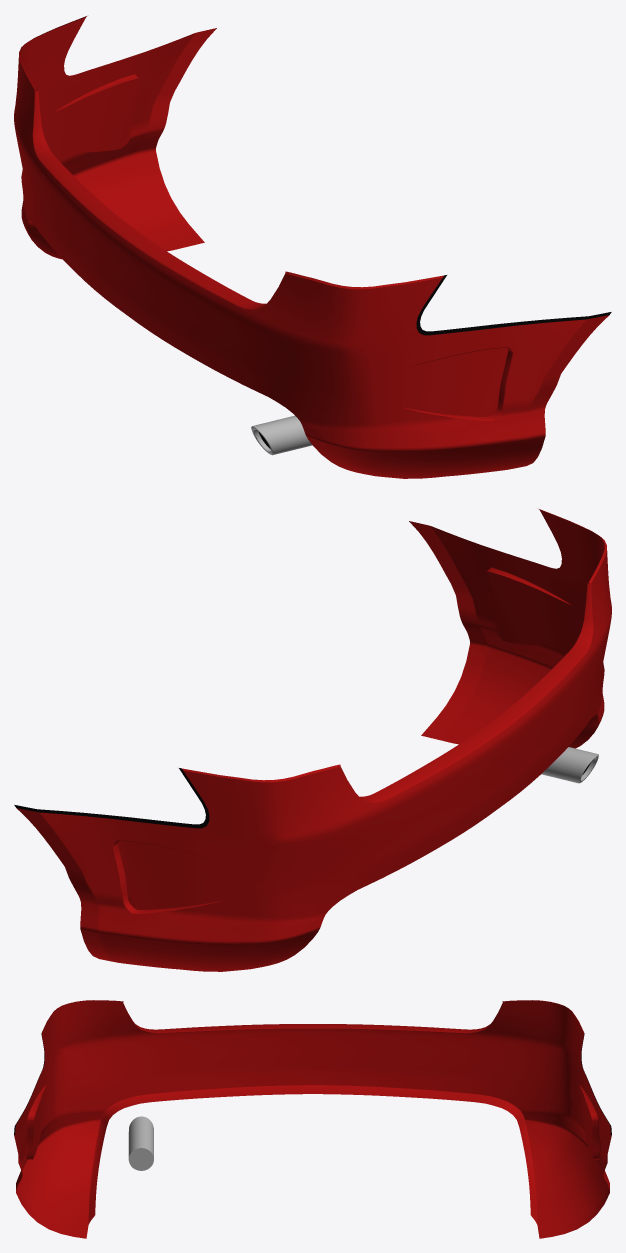
3 renders of one model, top to bottom at view 1: azimuth 30°, elevation 25°; view 2: azimuth 150°, elevation 25°; view 3: azimuth 270°, elevation 25°, orthographic. The views are drawn at different scales.
Visible parts, largest first — view 1: Y175_18_561G_C_1_DaS_Y175_18_561G_C, Y175_18_561G_C_1_DaS_Y175_18_561G_C_E, Y175_18_561G_C_Y175_18_561G_C_2_DaS, Y175_18_561G_C_Y175_18_561G_C_3_D; view 2: Y175_18_561G_C_1_DaS_Y175_18_561G_C, Y175_18_561G_C_1_DaS_Y175_18_561G_C_E, Y175_18_561G_C_Y175_18_561G_C_2_DaS, Y175_18_561G_C_Y175_18_561G_C_3_D; view 3: Y175_18_561G_C_1_DaS_Y175_18_561G_C, Y175_18_561G_C_1_DaS_Y175_18_561G_C_E, Y175_18_561G_C_Y175_18_561G_C_2_DaS.
Boxes of the visible parts, x1,y1,x2,y2 form: Y175_18_561G_C_1_DaS_Y175_18_561G_C: [14, 17, 609, 478]; Y175_18_561G_C_1_DaS_Y175_18_561G_C_E: [19, 16, 513, 420]; Y175_18_561G_C_Y175_18_561G_C_2_DaS: [251, 415, 312, 455]; Y175_18_561G_C_Y175_18_561G_C_3_D: [416, 275, 611, 335]; Y175_18_561G_C_1_DaS_Y175_18_561G_C: [16, 510, 611, 971]; Y175_18_561G_C_1_DaS_Y175_18_561G_C_E: [112, 509, 606, 913]; Y175_18_561G_C_Y175_18_561G_C_2_DaS: [541, 747, 598, 783]; Y175_18_561G_C_Y175_18_561G_C_3_D: [14, 768, 209, 828]; Y175_18_561G_C_1_DaS_Y175_18_561G_C: [14, 1000, 611, 1238]; Y175_18_561G_C_1_DaS_Y175_18_561G_C_E: [25, 1000, 600, 1224]; Y175_18_561G_C_Y175_18_561G_C_2_DaS: [128, 1116, 153, 1170].
Bounding box in the file's own units: 84.2 × 61.92 × 194.
